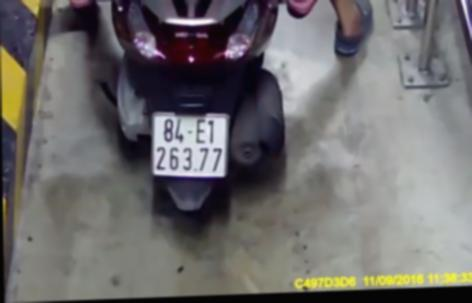License_Plate: (144, 102, 236, 187)
